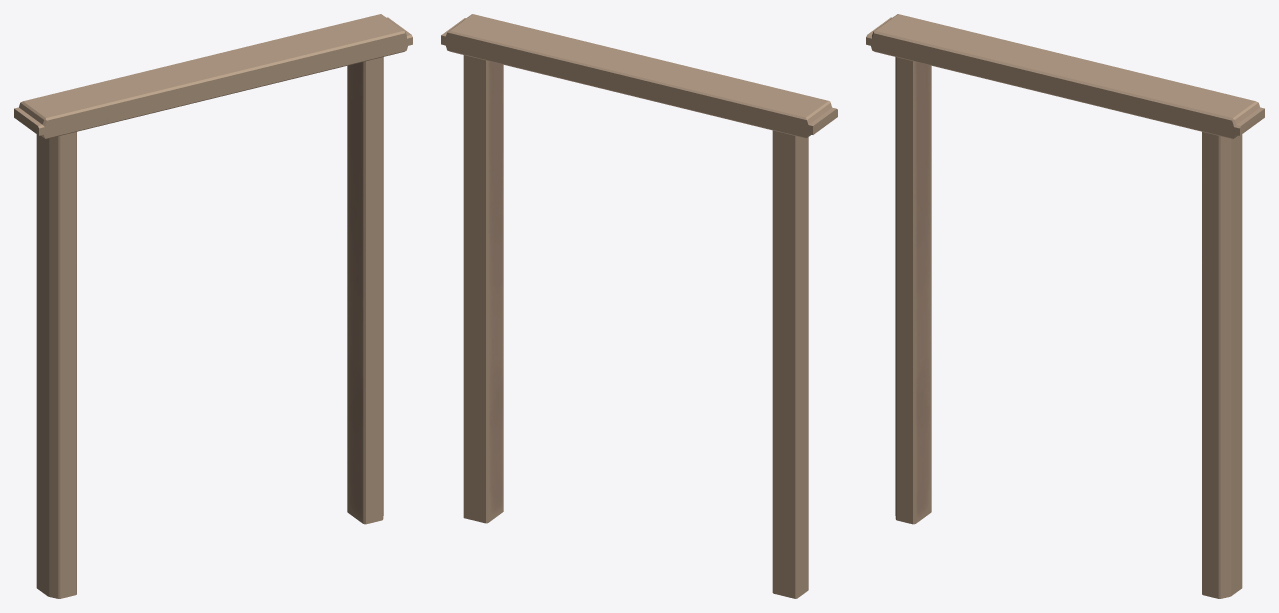
The model's file is doorSideFrame.fbx.
3 views of the same model, side by side, from view 1: azimuth 30°, elevation 25°; view 2: azimuth 150°, elevation 25°; view 3: azimuth 330°, elevation 25° (orthographic).
Parts seen in each view (by area): view 1: doorSideFrame1, doorSideFrame, doorTopFrame; view 2: doorSideFrame, doorSideFrame1, doorTopFrame; view 3: doorSideFrame, doorSideFrame1, doorTopFrame.
Part boxes in pixels (<box>): doorSideFrame1: <box>36,132,76,598</box>; doorSideFrame: <box>347,57,383,524</box>; doorTopFrame: <box>14,14,412,139</box>; doorSideFrame: <box>463,55,503,523</box>; doorSideFrame1: <box>772,130,808,598</box>; doorTopFrame: <box>441,14,837,138</box>; doorSideFrame: <box>1202,132,1242,598</box>; doorSideFrame1: <box>895,57,931,524</box>; doorTopFrame: <box>866,14,1264,139</box>.
Size of the model in its own units: 485 by 605 by 56.11.
